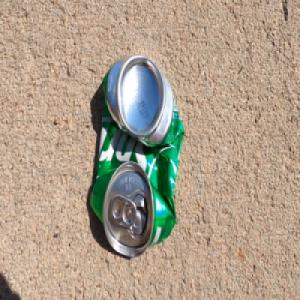SodaCan: (89, 50, 186, 258)
